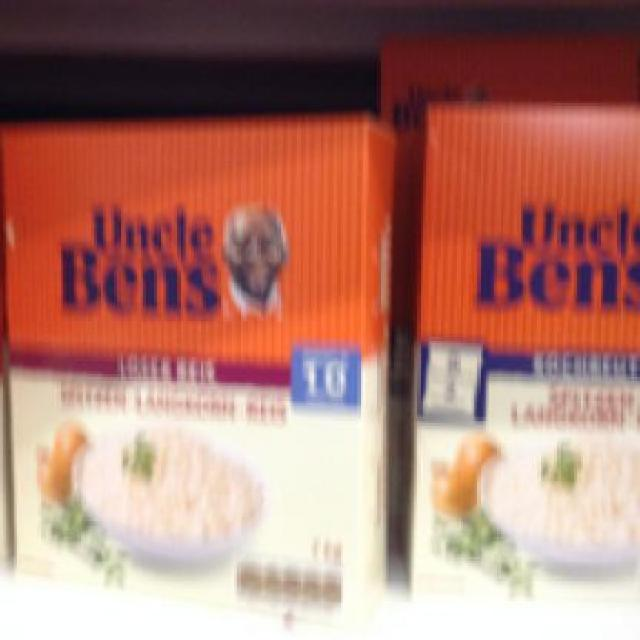Rice: (0, 110, 395, 632), (402, 97, 638, 597)
